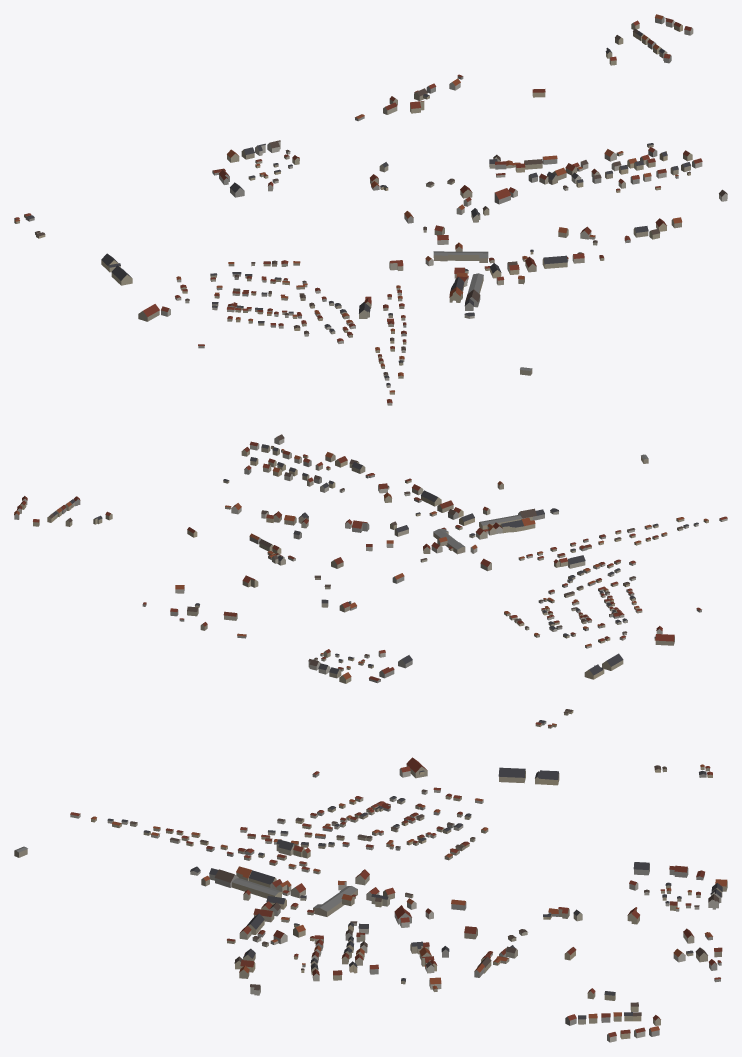
3 views of the same model, one above another, from view 1: azimuth 30°, elevation 25°; view 2: azimuth 150°, elevation 25°; view 3: azimuth 270°, elevation 25° (orthographic). The views are drawn at different scales.
Parts seen in each view (by area): view 1: buildings; view 2: buildings; view 3: buildings.
Part boxes in pixels (x1,y1,x2,y2): buildings: [14, 14, 727, 405]; buildings: [14, 434, 727, 728]; buildings: [14, 757, 727, 1042].
Bounding box in the file's own units: 809 × 89.02 × 698.
